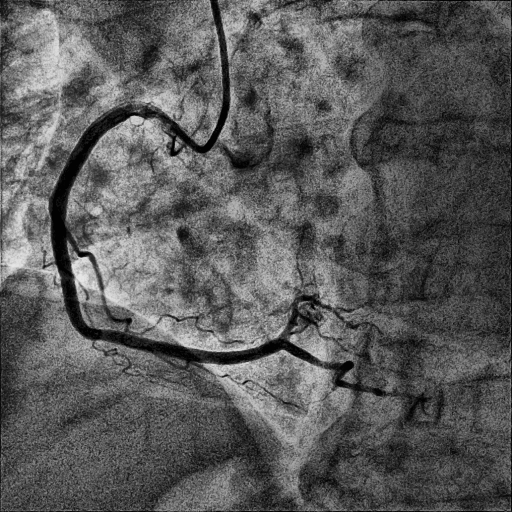pborca: (277, 296, 381, 346)
pda: (283, 341, 427, 402)
rca: (48, 101, 283, 365)
